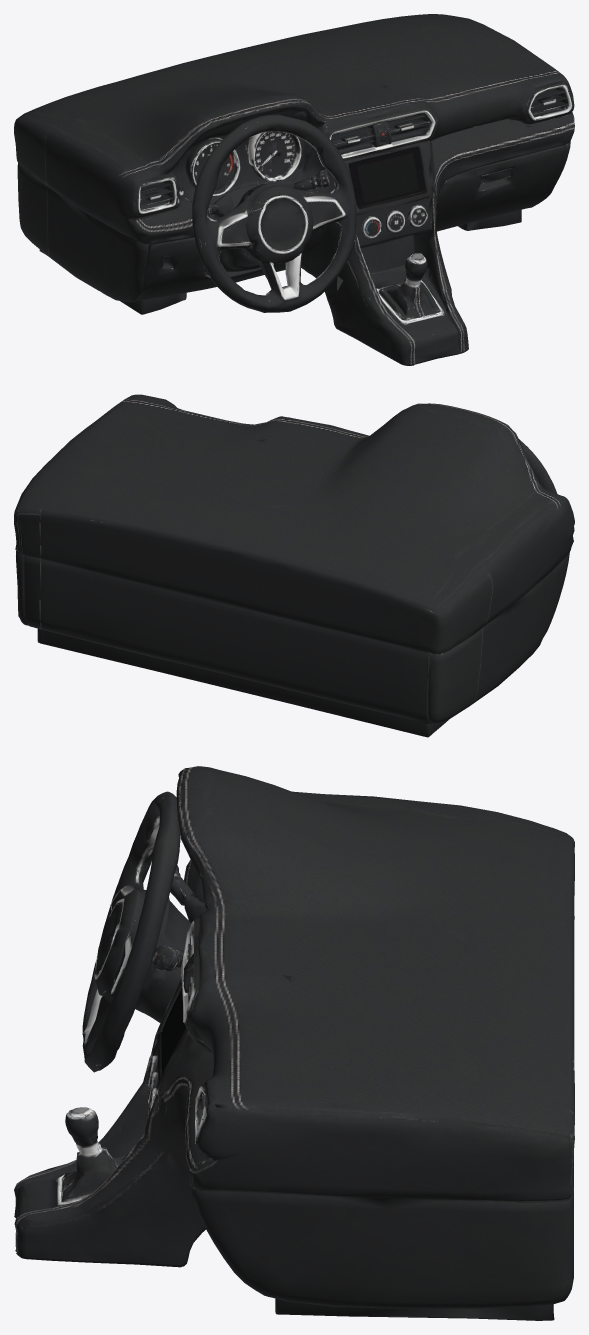
The model's file is skyways-car-dash.glb.
3 views of the same model, one above another, from view 1: azimuth 30°, elevation 25°; view 2: azimuth 150°, elevation 25°; view 3: azimuth 270°, elevation 25° (orthographic). The views are drawn at different scales.
Visible parts, largest first — view 1: skyways-car-dash; view 2: skyways-car-dash; view 3: skyways-car-dash.
Part boxes in pixels (bbox=[...]): skyways-car-dash: bbox=[14, 14, 574, 365]; skyways-car-dash: bbox=[14, 394, 574, 737]; skyways-car-dash: bbox=[14, 766, 574, 1320].
Size of the model in its own units: 1.48 by 0.7596 by 1.09.
1 material, 1 textured.
